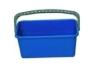SEAU: (12, 8, 88, 61)
